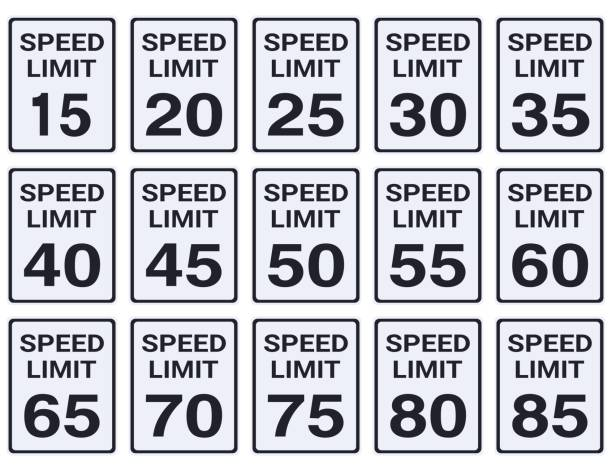SpeedLimitSign: (493, 315, 606, 455), (492, 165, 604, 306), (126, 15, 239, 154), (249, 166, 361, 305), (372, 165, 484, 304), (5, 316, 117, 455), (127, 165, 238, 304), (249, 316, 360, 454), (372, 316, 483, 454), (4, 16, 116, 152), (372, 16, 483, 153), (128, 317, 238, 455), (250, 16, 359, 154), (495, 16, 604, 154), (7, 166, 116, 303)
